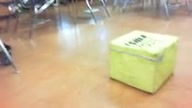cube: (108, 29, 179, 95)
